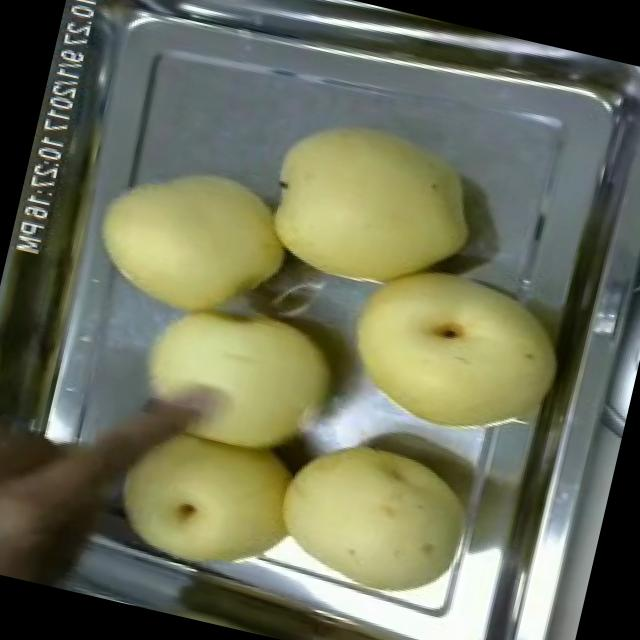Fruit: (320, 234, 582, 462), (245, 96, 496, 314), (112, 274, 360, 484), (253, 412, 490, 622), (71, 140, 310, 342), (90, 400, 324, 588)
